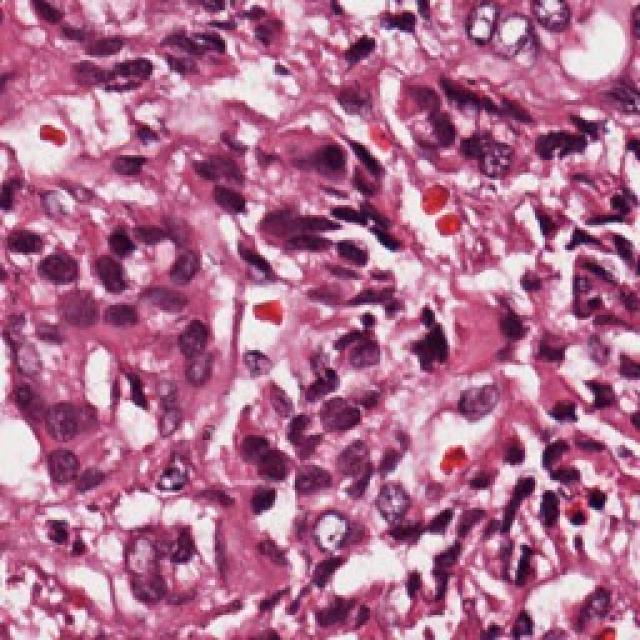abnormal: (110, 521, 187, 611), (127, 430, 210, 512), (293, 497, 370, 580), (361, 467, 436, 538), (143, 448, 205, 524), (445, 0, 517, 50), (488, 0, 543, 65), (473, 120, 520, 193), (508, 0, 578, 38)
